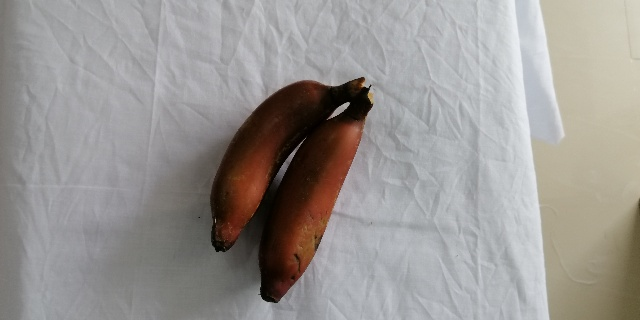banana_red: (209, 78, 364, 250), (250, 88, 370, 302)
